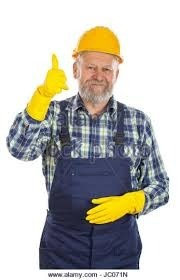helmet: (68, 22, 125, 66)
person with partial safety: (7, 22, 169, 271)
